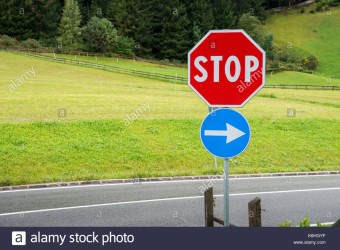SS: (187, 31, 266, 107)
